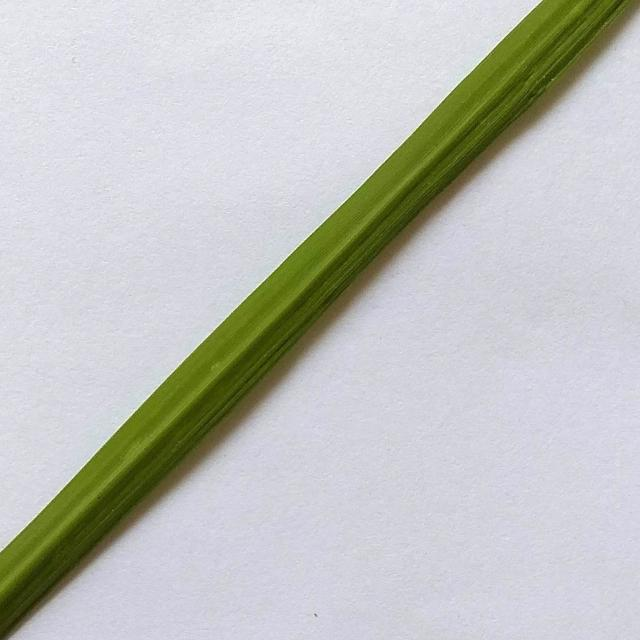Rice_Healthy: (0, 0, 629, 638)
